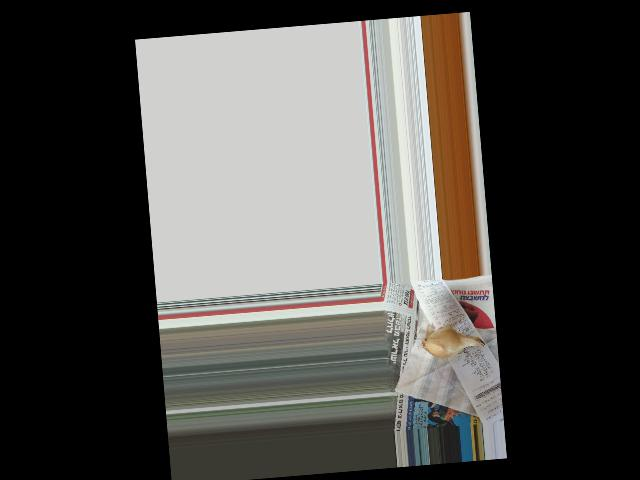onion: (426, 328, 469, 359)
